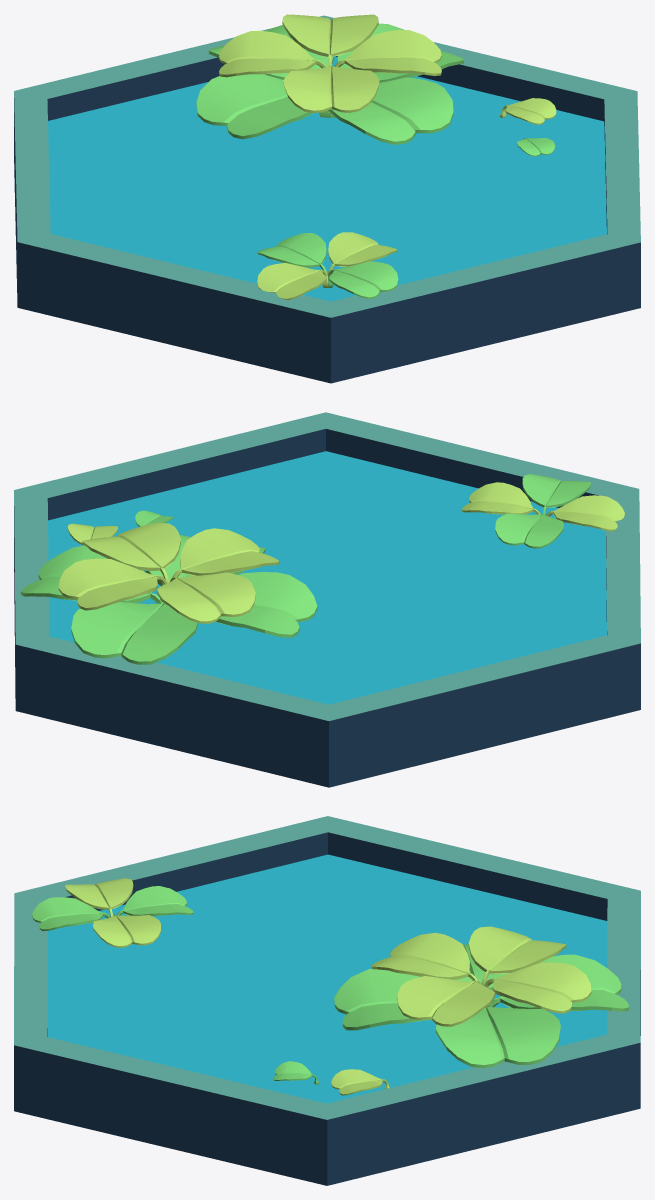
The model's file is Macro - Eceng Gondok.fbx.
3 renders of one model, top to bottom at view 1: azimuth 30°, elevation 25°; view 2: azimuth 150°, elevation 25°; view 3: azimuth 270°, elevation 25°, orthographic.
Parts seen in each view (by area): view 1: Cylinder.001, Plane.008, Plane.004, Plane.011, Plane.015, Plane.010, Plane.016, Plane.017, Plane.018, Plane.007, Plane.021, Plane.026 (+3 smaller); view 2: Cylinder.001, Plane.009, Plane.008, Plane.015, Plane.016, Plane.011, Plane.010, Plane.021, Plane, Plane.018, Plane.007, Plane.017 (+2 smaller); view 3: Cylinder.001, Plane, Plane.010, Plane.016, Plane.004, Plane.011, Plane.015, Plane.009, Plane.007, Plane.017, Plane.021, Plane.018 (+2 smaller).
Boxes of the visible parts, x1,y1,x2,y2 form: Cylinder.001: [14, 15, 640, 383]; Plane.008: [196, 74, 329, 139]; Plane.004: [328, 77, 453, 144]; Plane.011: [283, 65, 379, 112]; Plane.015: [219, 30, 326, 77]; Plane.010: [334, 29, 441, 75]; Plane.016: [282, 14, 378, 66]; Plane.017: [328, 261, 398, 298]; Plane.018: [257, 263, 327, 300]; Plane.007: [327, 232, 397, 275]; Plane.021: [257, 233, 327, 274]; Plane.026: [500, 98, 556, 124]; Cylinder.001: [14, 412, 640, 787]; Plane.009: [71, 602, 197, 664]; Plane.008: [215, 572, 317, 637]; Plane.015: [157, 572, 255, 623]; Plane.016: [58, 558, 167, 610]; Plane.011: [170, 528, 279, 580]; Plane.010: [82, 522, 180, 582]; Plane.021: [495, 513, 563, 548]; Plane: [20, 545, 162, 603]; Plane.018: [546, 495, 624, 531]; Plane.007: [462, 482, 540, 514]; Plane.017: [522, 474, 590, 515]; Cylinder.001: [14, 816, 640, 1185]; Plane: [435, 1007, 560, 1068]; Plane.010: [397, 976, 495, 1026]; Plane.016: [483, 962, 591, 1013]; Plane.004: [334, 968, 431, 1030]; Plane.011: [371, 932, 477, 981]; Plane.015: [468, 926, 566, 985]; Plane.009: [487, 954, 628, 1011]; Plane.007: [93, 915, 160, 947]; Plane.017: [32, 897, 110, 931]; Plane.021: [116, 886, 193, 916]; Plane.018: [65, 878, 133, 917].
Bounding box in the file's own units: 197 × 32.35 × 172.
